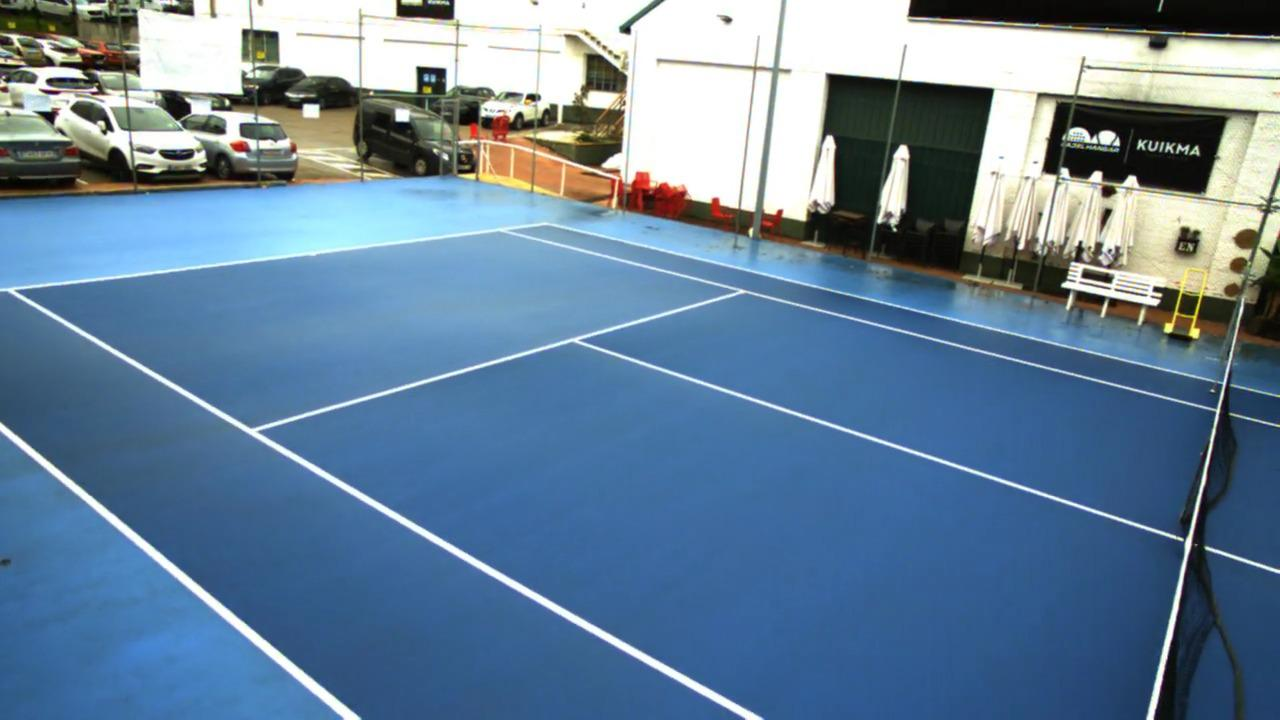cancha_tenis: (10, 228, 1280, 720)
point_f1: (1, 275, 28, 305)
point_f2: (490, 221, 519, 242)
point_fc1: (305, 243, 322, 264)
point_i1: (236, 413, 272, 446)
point_i2: (728, 281, 756, 303)
point_ic1: (562, 327, 594, 352)
